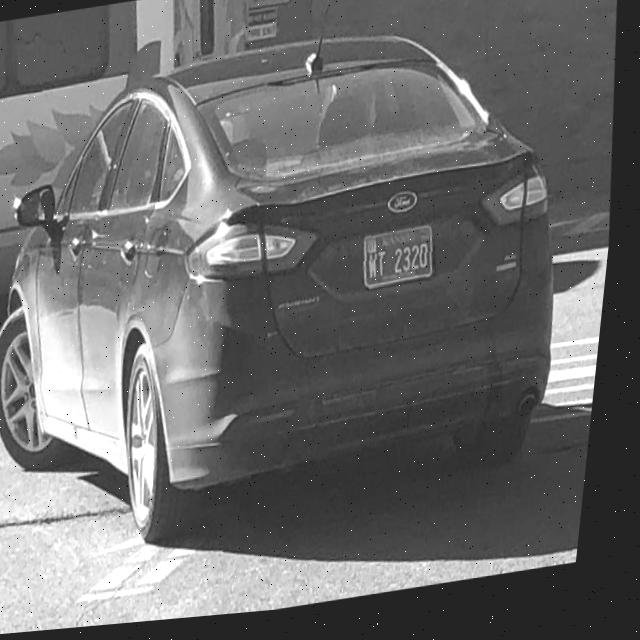LicensePlate: (370, 232, 440, 296)
